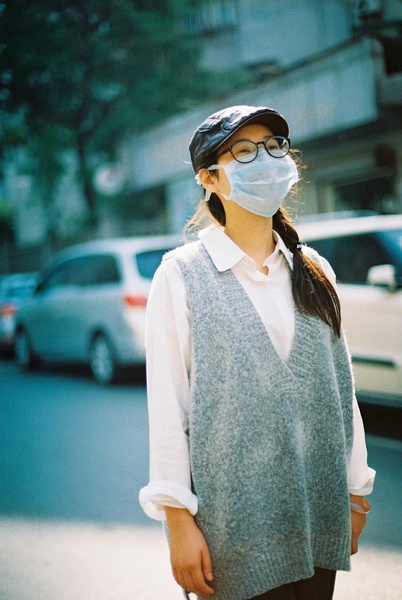face_mask: (221, 116, 289, 212)
